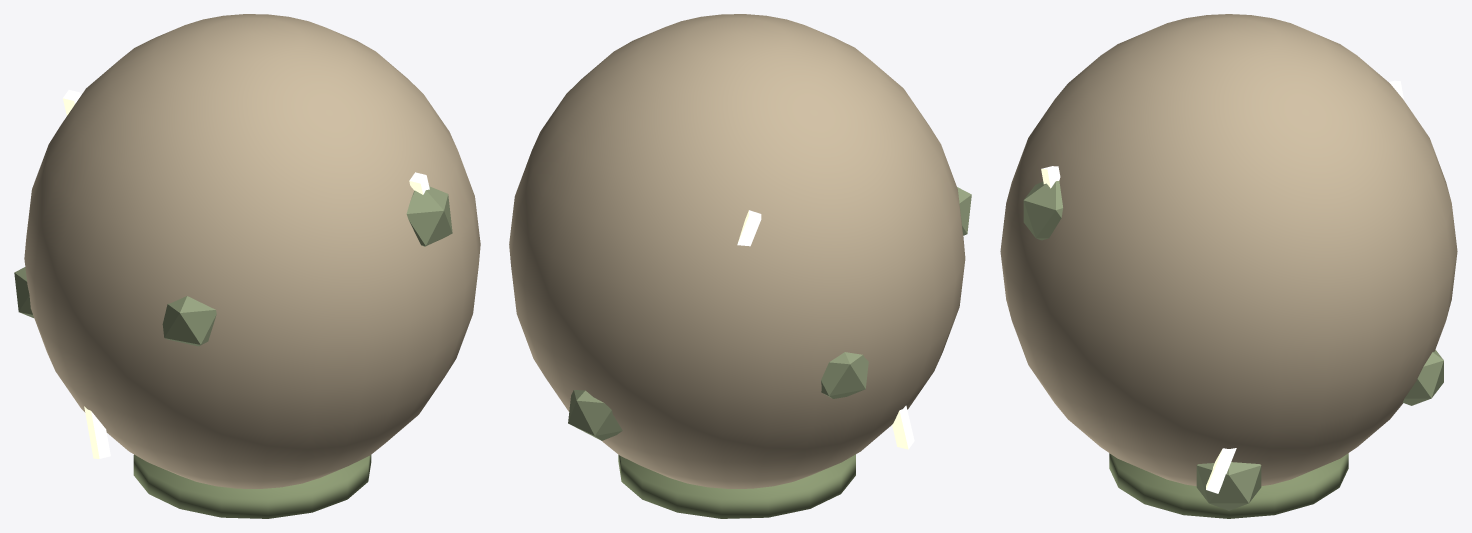
Rendered from egg_prehistoric_08.glb.
3 views of the same model, side by side, from view 1: azimuth 30°, elevation 25°; view 2: azimuth 150°, elevation 25°; view 3: azimuth 270°, elevation 25° (orthographic).
Visible parts, largest first — view 1: ball; view 2: ball; view 3: ball.
Part boxes in pixels (<box>): ball: <box>14,14,480,518</box>; ball: <box>509,14,971,518</box>; ball: <box>1000,14,1457,518</box>.
Size of the model in its own units: 0.84 by 0.88 by 0.84.
